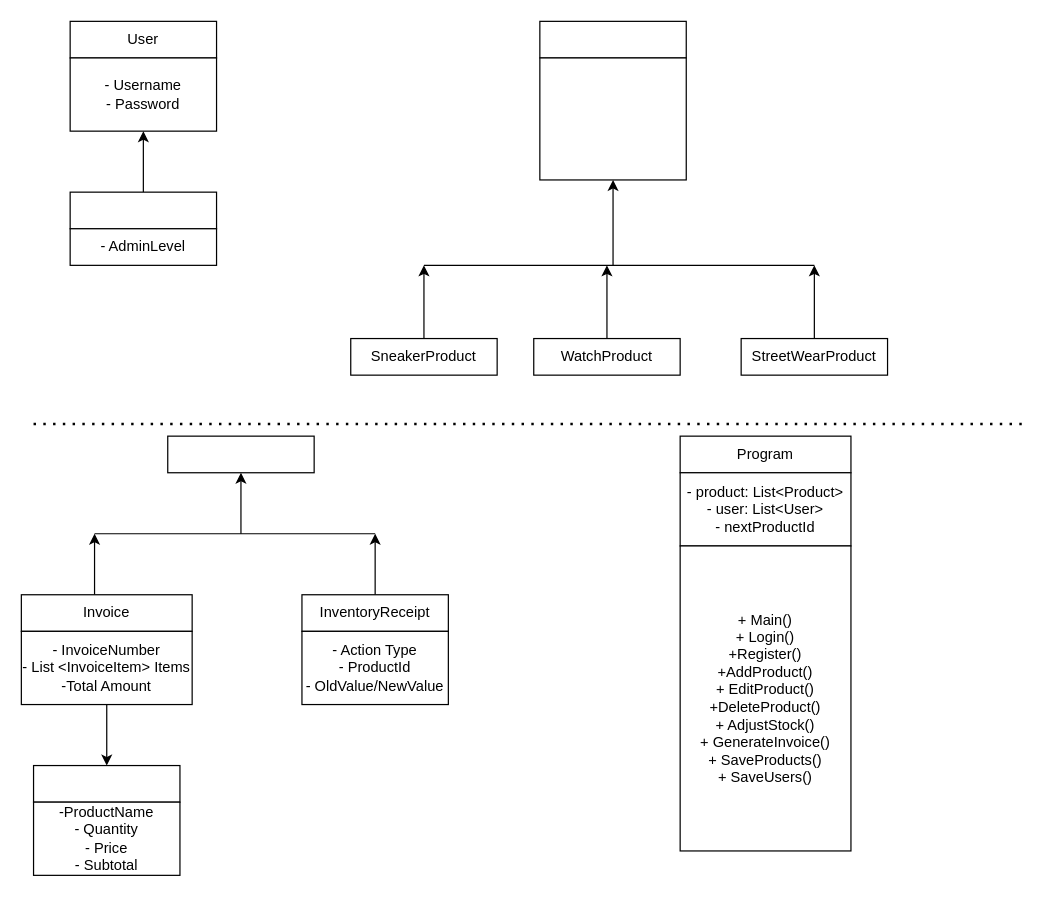
This 1046x897 diagram has some shape labels left out. Here are the shapes that lost their labels. From the top down, the centre of each, then its label:
At [612,39]: "Product".
At [612,118]: "- Id - Brand - Category - Name - Stock - Price".
At [143,210]: "AdminUser".
At [240,454]: "Record".
At [106,783]: "InvoiceItem".
